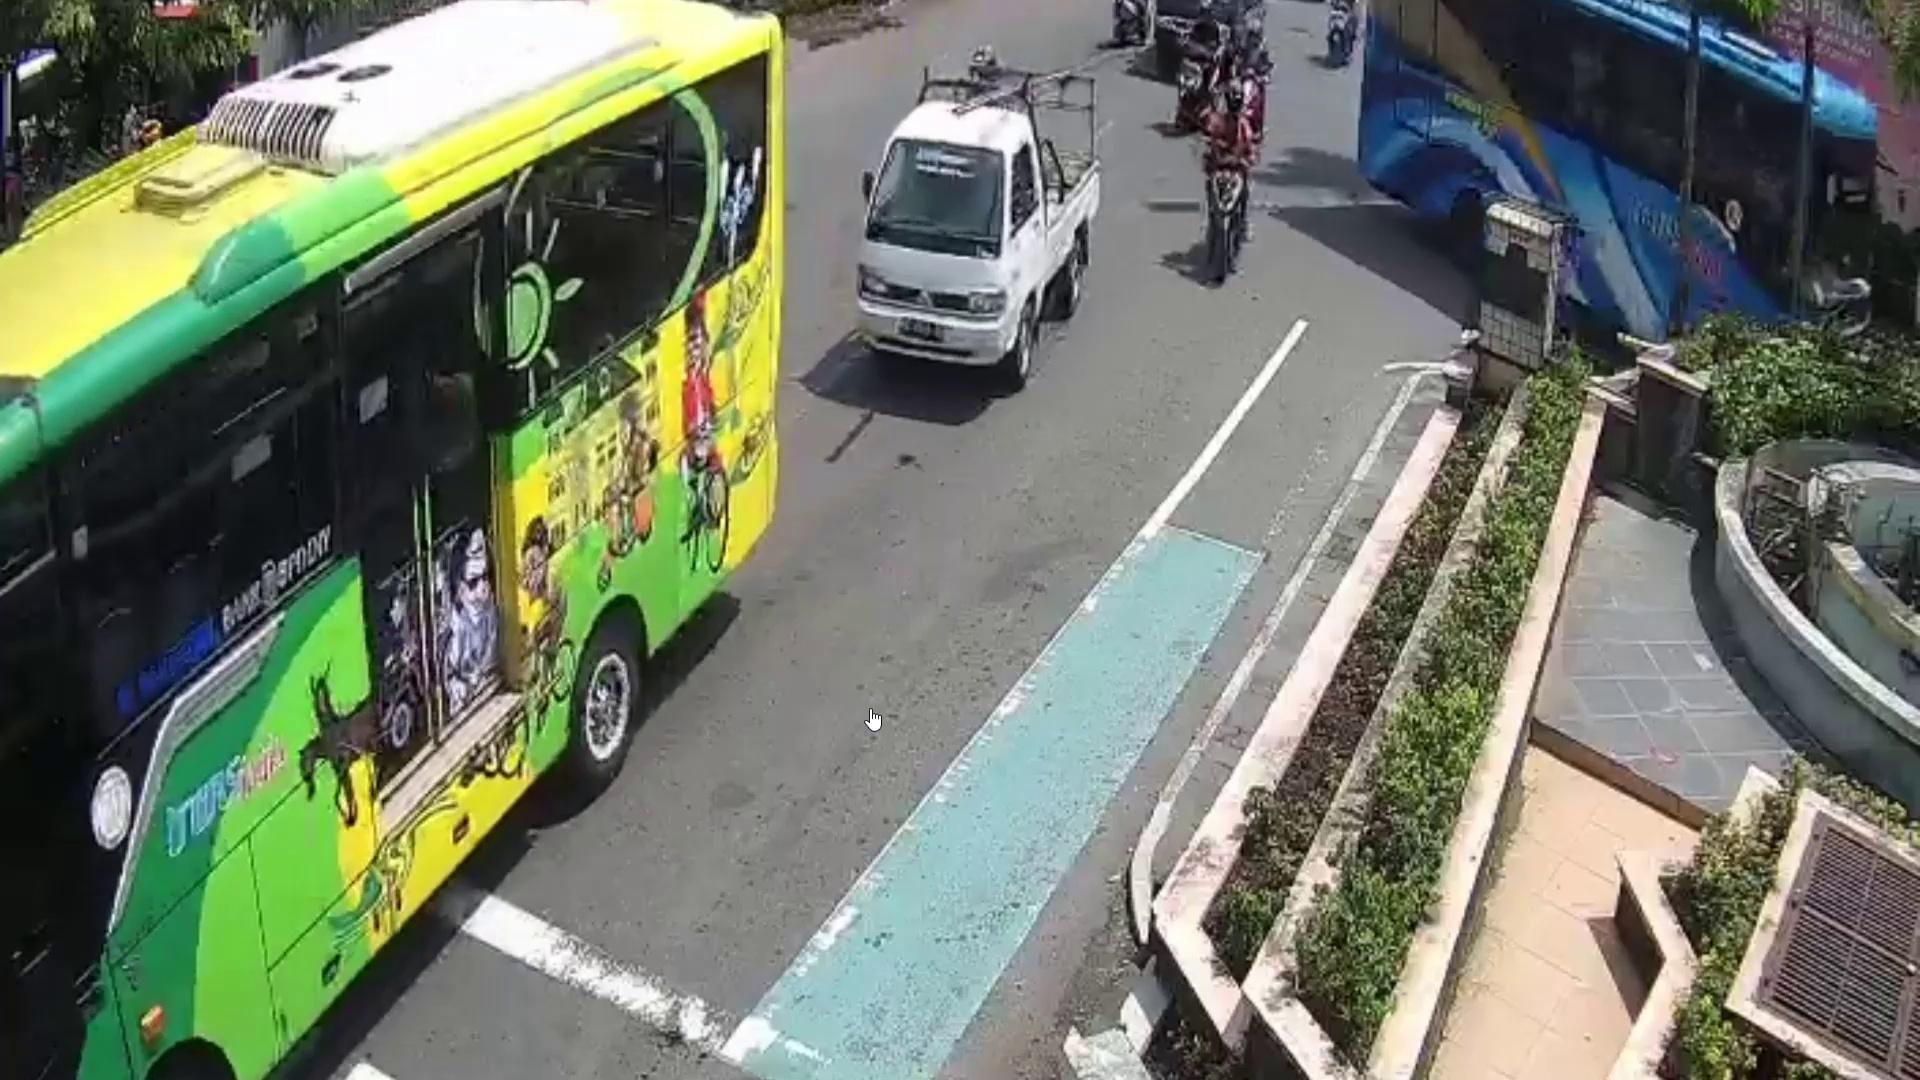bus: (3, 4, 783, 1080), (1354, 0, 1882, 409)
car: (855, 58, 1100, 390)
motorbike: (1204, 141, 1255, 284)
